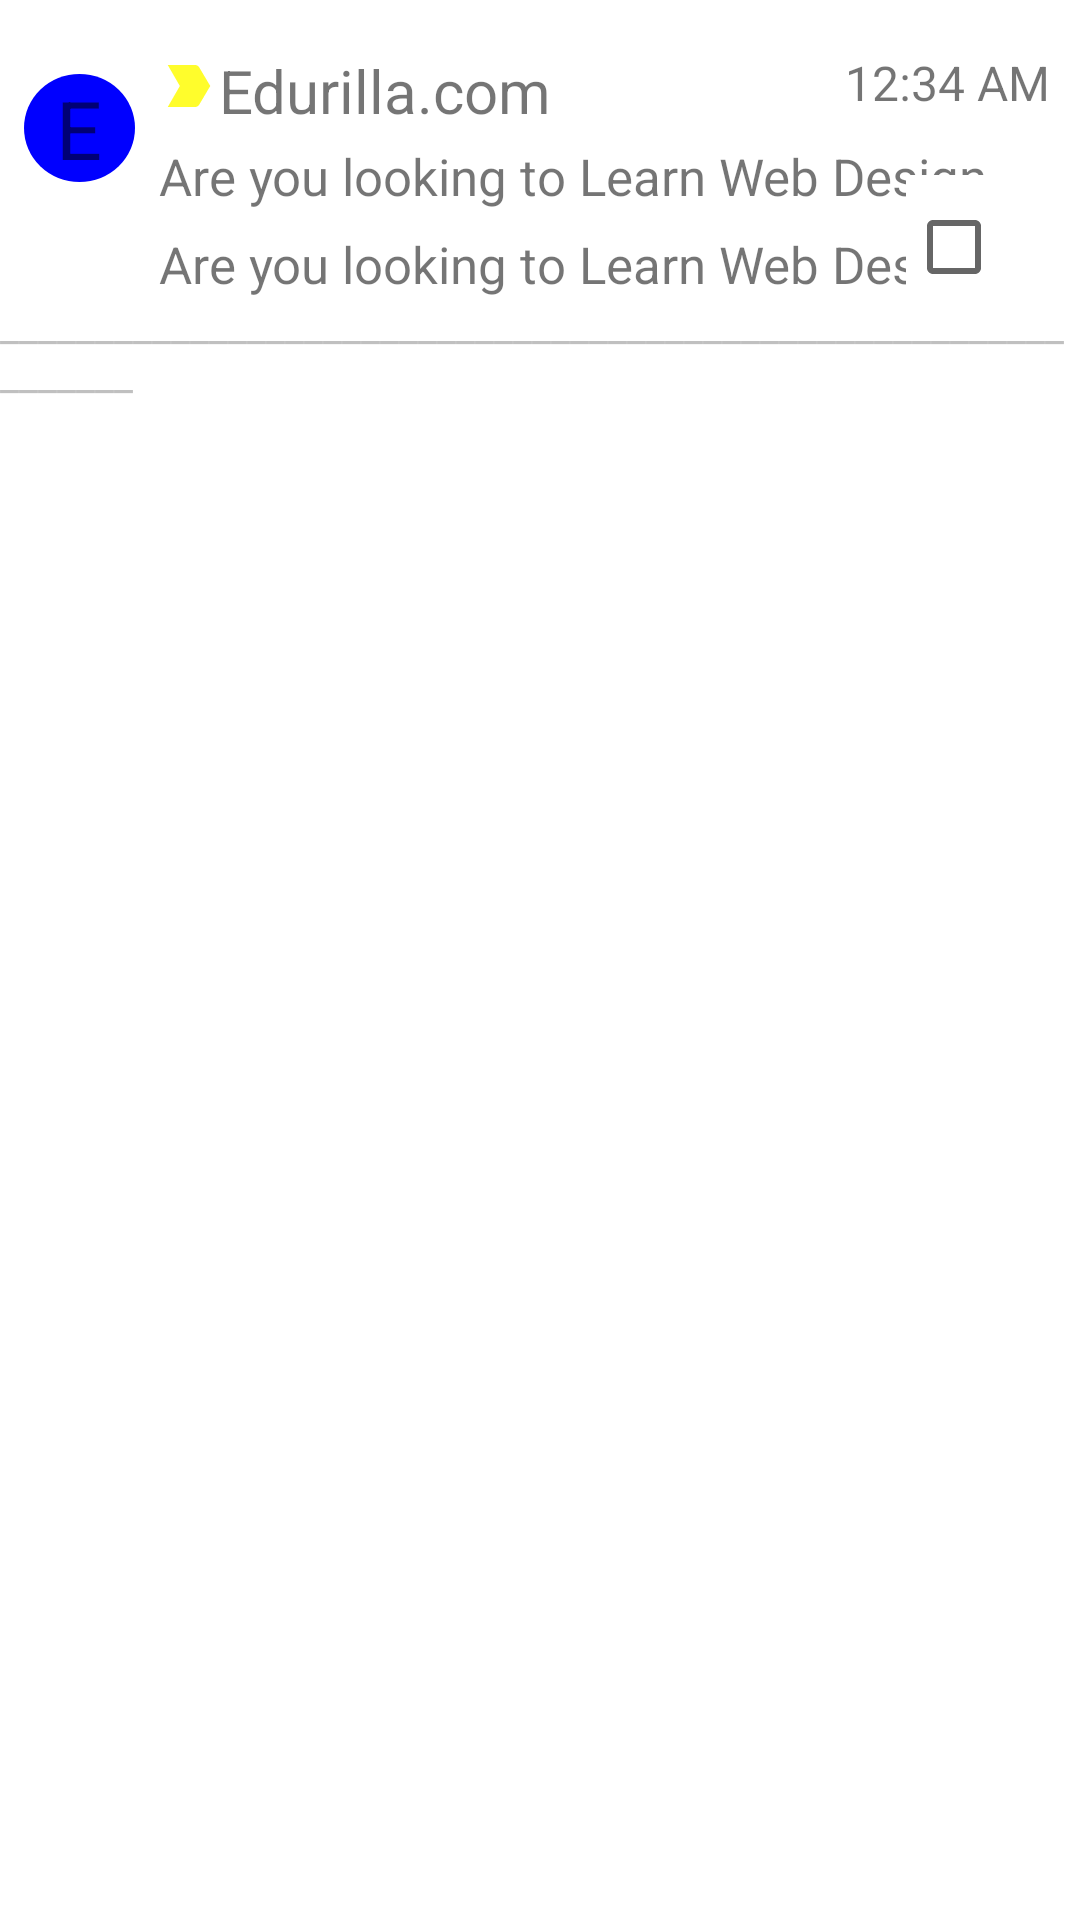

Where icons sit on this 1080×1920 app screen, as bbox=[x1, y1, x2, y2]:
label important: bbox=[168, 65, 210, 107]
